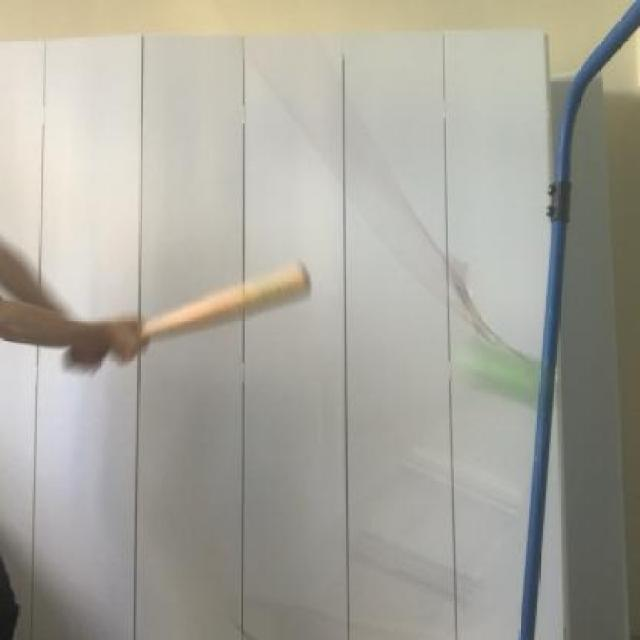baseball: (436, 318, 561, 417)
